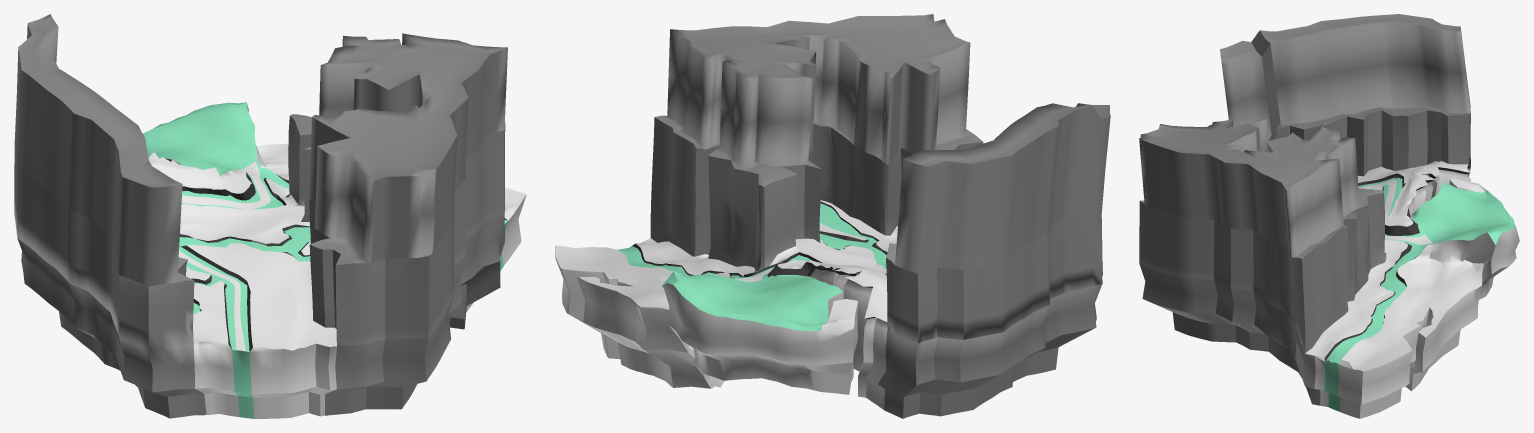
Rendered from introisland 1.fbx.
3 renders of one model, left to right at view 1: azimuth 30°, elevation 25°; view 2: azimuth 150°, elevation 25°; view 3: azimuth 270°, elevation 25°, orthographic. The views are drawn at different scales.
Visible parts, largest first — view 1: Plane, Plane.002; view 2: Plane; view 3: Plane, Plane.002.
Part boxes in pixels (x1,y1,x2,y2): Plane: [14, 14, 526, 418]; Plane.002: [178, 162, 270, 350]; Plane: [555, 14, 1110, 418]; Plane: [1139, 14, 1519, 418]; Plane.002: [1358, 179, 1432, 244].
Bounding box in the file's own units: 66409 × 42621 × 58468.
